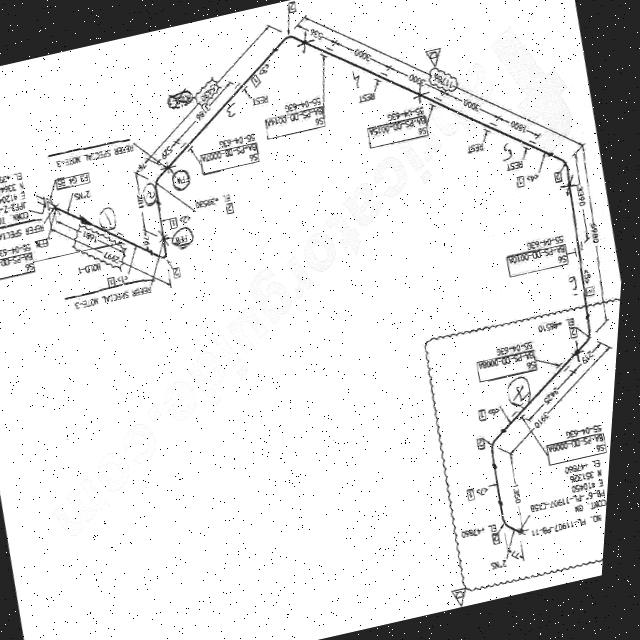Item number: (477, 344, 543, 385), (365, 112, 432, 149), (264, 102, 329, 140), (549, 429, 613, 467), (508, 241, 572, 278), (200, 139, 263, 175), (0, 248, 42, 281), (53, 168, 93, 191), (554, 167, 568, 186), (172, 263, 185, 282), (248, 71, 261, 89), (470, 485, 483, 503), (481, 405, 492, 423), (516, 173, 528, 188), (587, 283, 599, 298), (226, 198, 237, 213), (170, 213, 180, 229), (109, 274, 122, 286), (284, 0, 295, 14), (481, 434, 491, 449), (573, 324, 583, 338), (497, 529, 506, 544)
Measrement: (308, 16, 584, 146), (515, 345, 618, 453), (52, 223, 164, 285), (192, 21, 272, 107), (580, 137, 614, 327), (159, 79, 230, 154), (526, 368, 581, 422), (569, 148, 593, 244), (332, 36, 396, 72), (439, 88, 502, 122), (383, 63, 447, 96), (513, 451, 532, 533), (290, 14, 338, 45), (571, 338, 609, 374), (495, 113, 544, 140), (133, 170, 154, 230), (135, 150, 158, 179), (511, 542, 534, 565), (73, 186, 95, 202), (494, 556, 516, 571), (142, 226, 155, 251)
Pipeline: (58, 30, 597, 535)
Symbol: (545, 142, 579, 193), (501, 491, 532, 541), (266, 26, 313, 56), (490, 426, 520, 470), (148, 162, 177, 206), (36, 190, 59, 219), (151, 238, 172, 263)
Weld number: (509, 373, 539, 412), (173, 222, 198, 250), (171, 166, 194, 194), (101, 203, 121, 229)
other: (528, 448, 617, 540), (48, 134, 137, 171), (0, 167, 38, 224), (539, 312, 582, 334), (193, 190, 233, 210), (385, 102, 427, 121), (218, 129, 257, 149), (527, 231, 568, 250), (284, 93, 325, 111), (499, 338, 538, 356), (569, 421, 608, 438), (463, 521, 496, 540), (0, 239, 34, 257), (479, 480, 501, 498)
